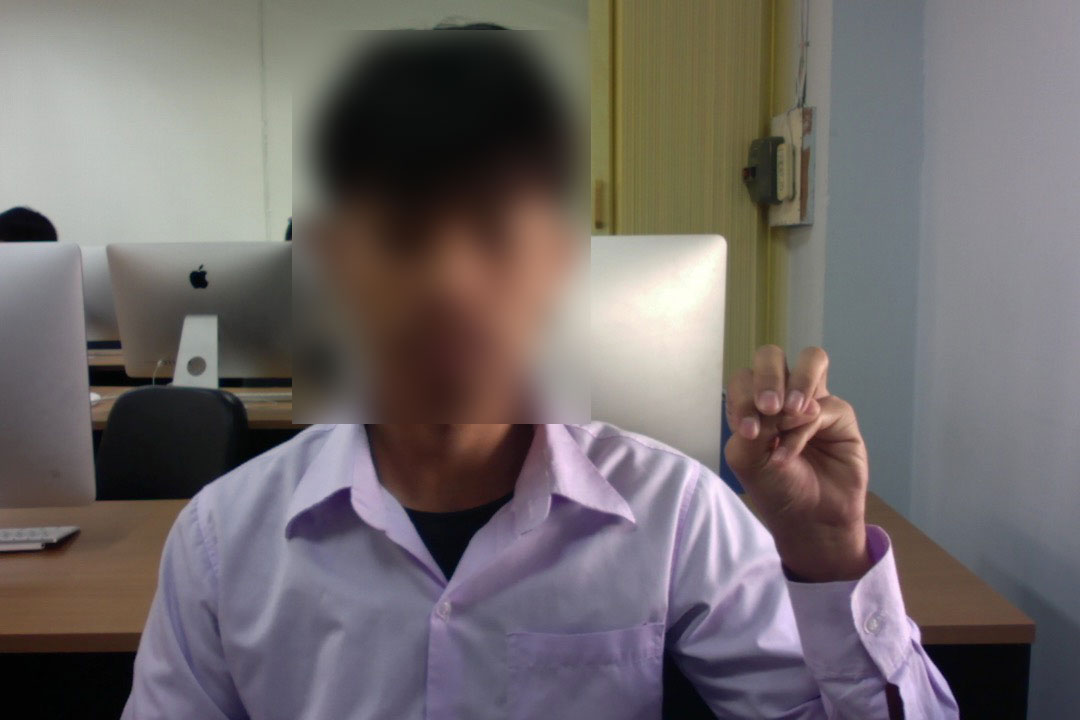mor: (721, 335, 877, 544)
